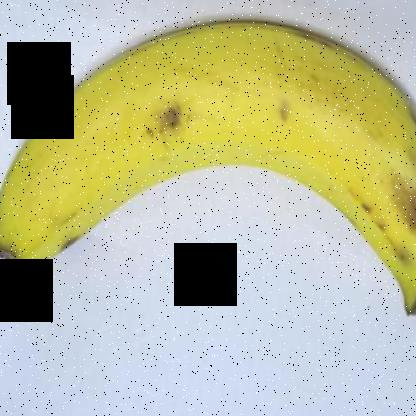freshripe: (0, 1, 415, 336)
